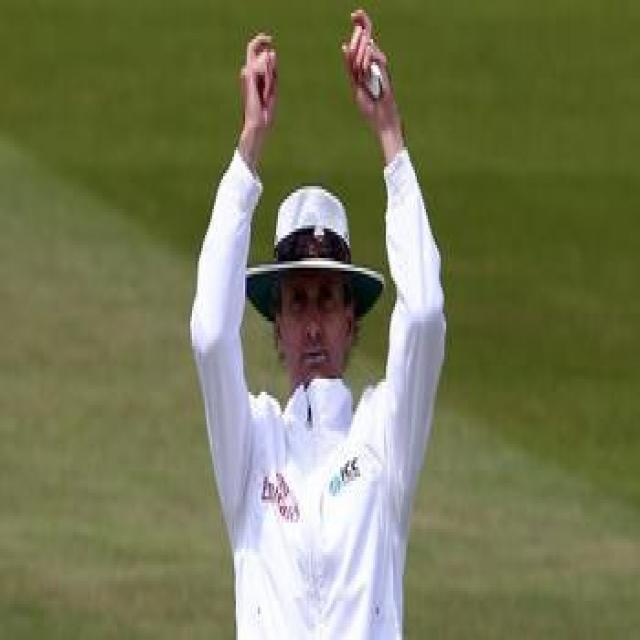Six: (178, 2, 455, 640)
